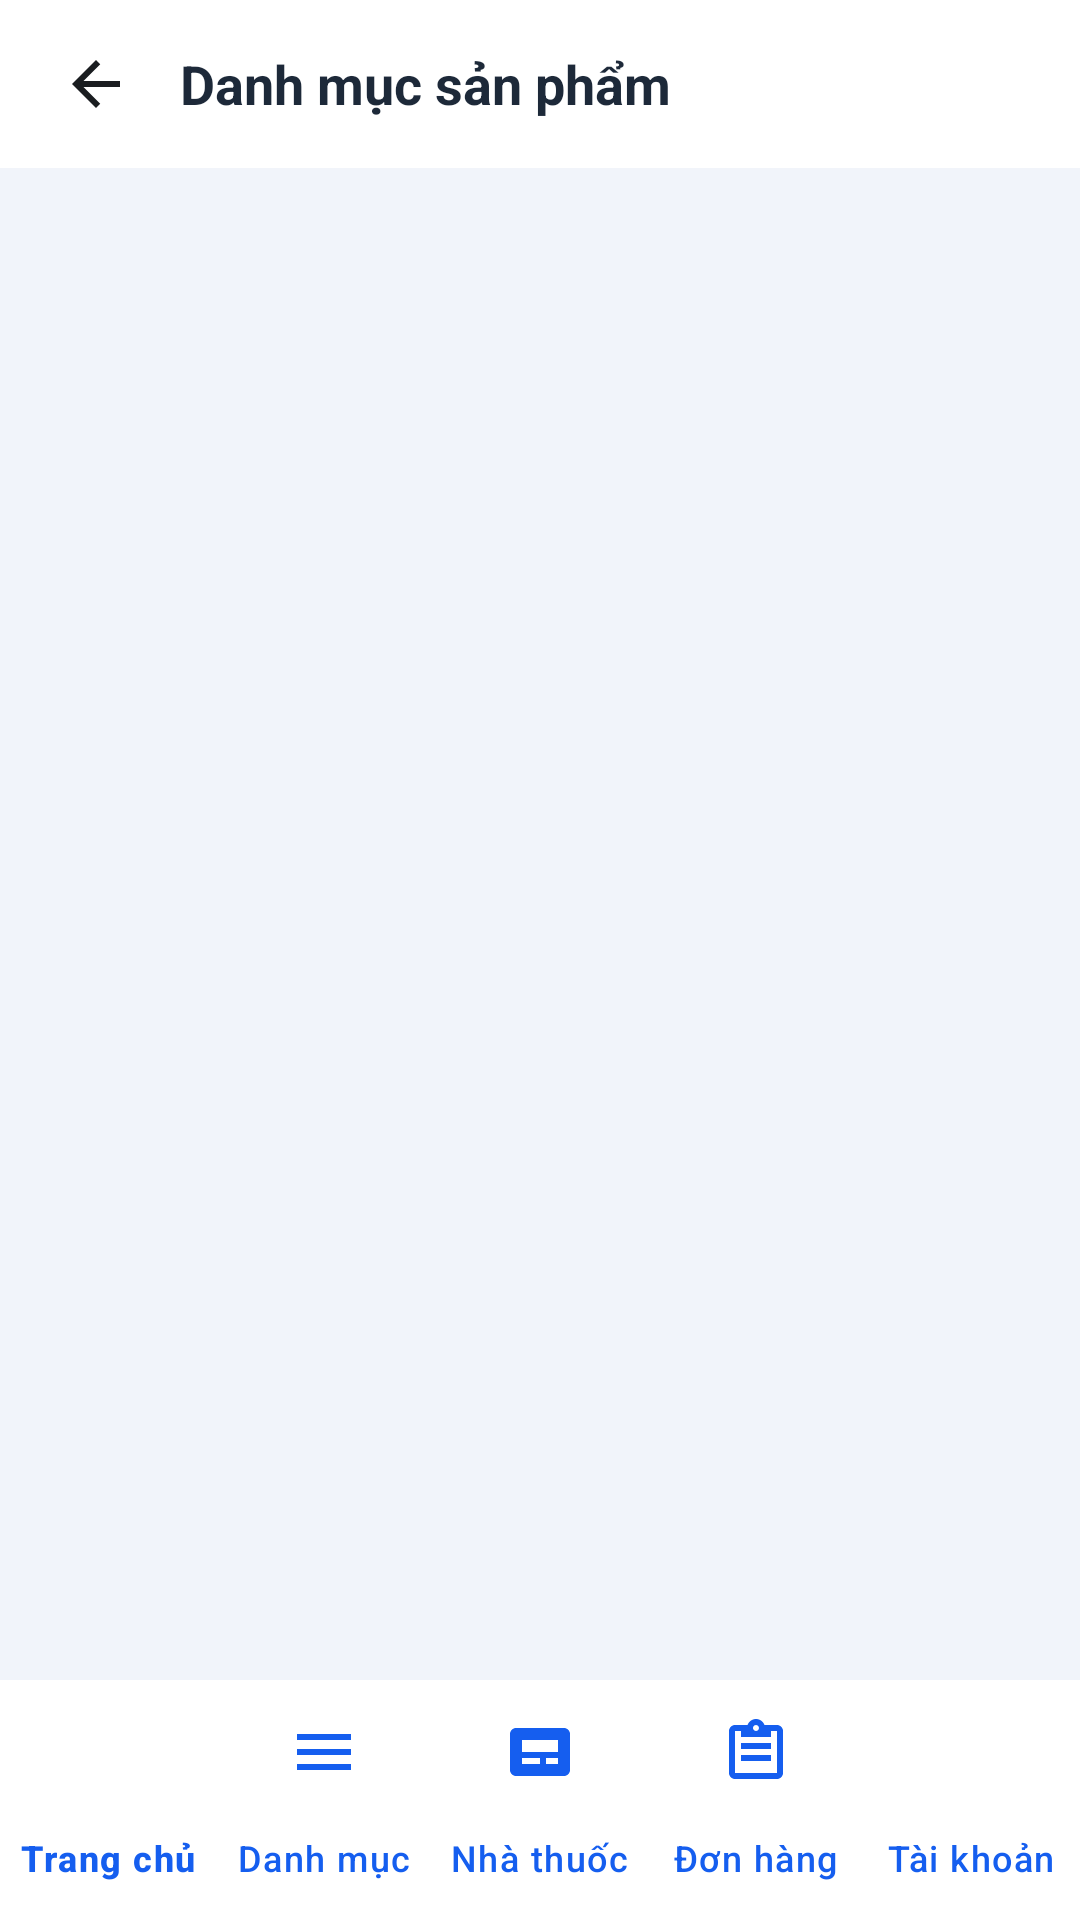

Screen size 1080px x 1920px. Icon name, then its center in pixels as [x,y]:
Back: [96,84]
